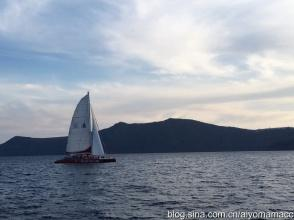fanchuan: (57, 92, 120, 165)
